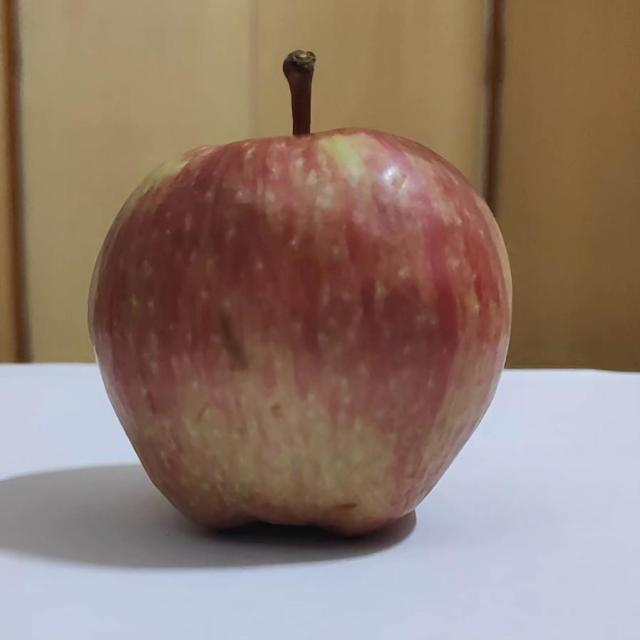Apple: (88, 51, 512, 533)
